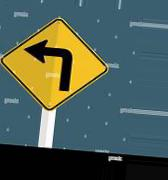left: (3, 17, 110, 111)
